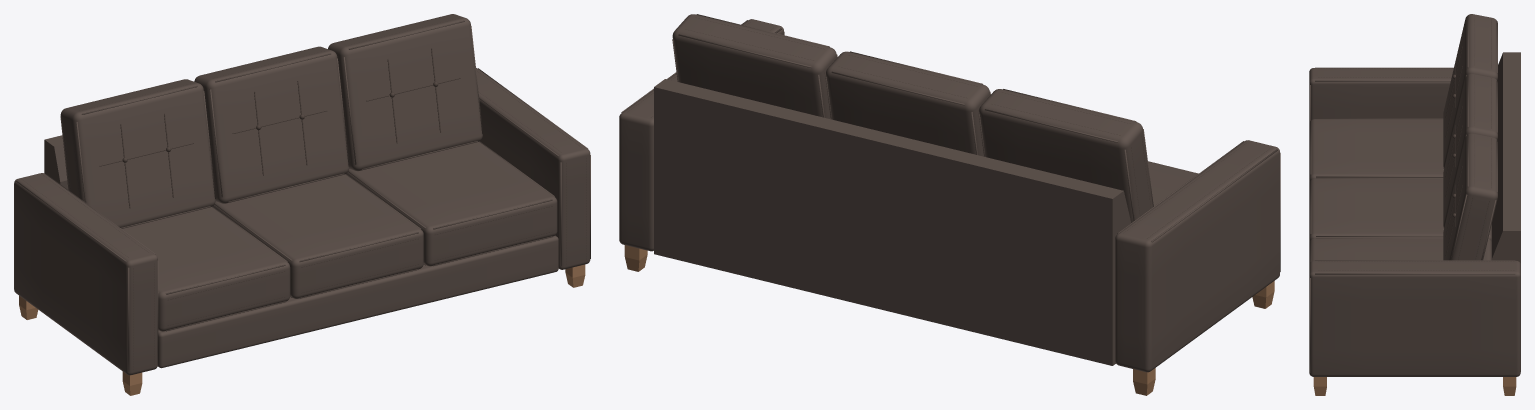
File: benza_220x95.glb
3 views of the same model, side by side, from view 1: azimuth 30°, elevation 25°; view 2: azimuth 150°, elevation 25°; view 3: azimuth 270°, elevation 25° (orthographic). The views are drawn at different scales.
Visible parts, largest first — view 1: p1, p2, p0; view 2: p1, p0, p2; view 3: p1, p2, p0.
Part boxes in pixels (<box>): p1: <box>14,14,590,375</box>; p2: <box>21,15,586,369</box>; p0: <box>19,264,585,395</box>; p1: <box>619,14,1280,372</box>; p0: <box>624,245,1274,395</box>; p2: <box>627,17,1269,238</box>; p1: <box>1309,14,1520,376</box>; p2: <box>1318,16,1514,270</box>; p0: <box>1313,377,1516,395</box>.
Size of the model in its own units: 2.2 by 0.9642 by 0.9506.
3 materials, 2 textured.
